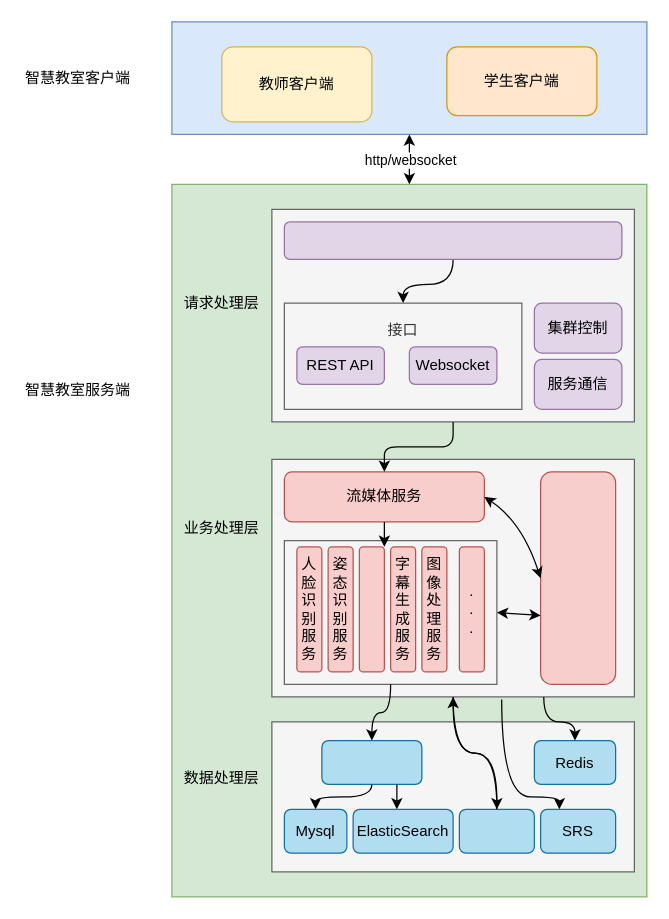
Some shapes in this 669 by 919 pixel diagram are drawn without their labels. Each missing label, with the centre of its shape:
"FastDFS" goes at point 496,830.
"Kafka" goes at point 371,761.
"Nginx" goes at point 452,240.
"日志服务" goes at point 577,577.
"语音识别服务" goes at point 371,609.
